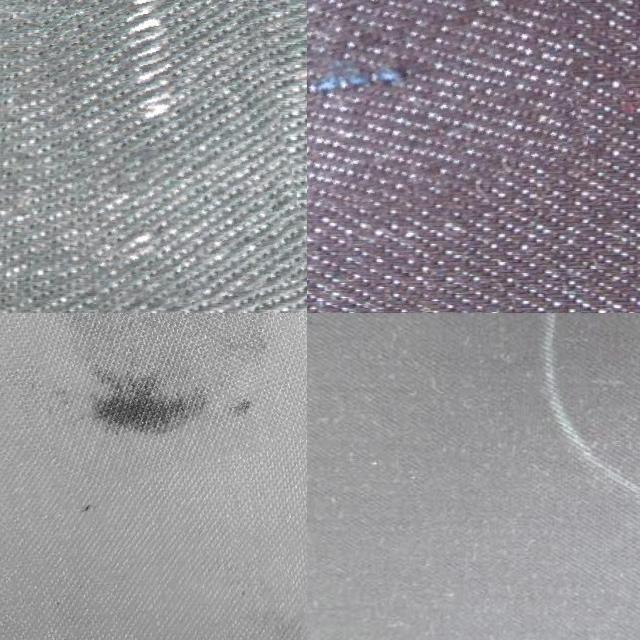Hole: (16, 313, 307, 478), (59, 490, 139, 548)
Thread_other: (31, 0, 292, 312), (307, 0, 577, 209)
